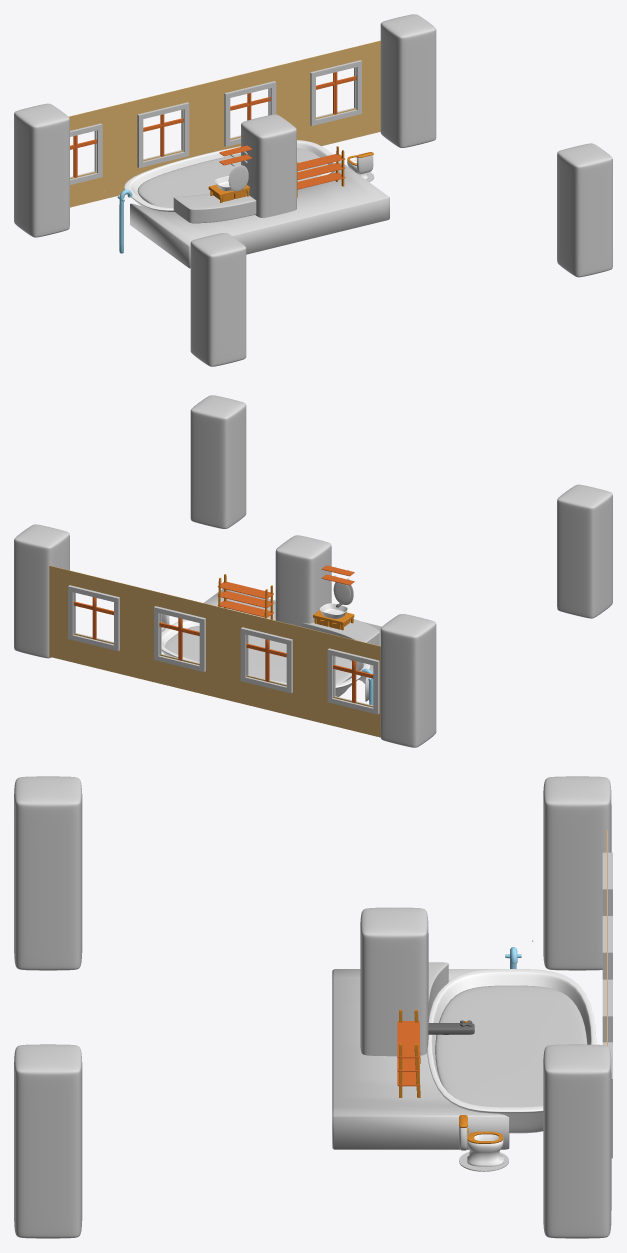
File: Bathroom_1006.fbx
3 views of the same model, one above another, from view 1: azimuth 30°, elevation 25°; view 2: azimuth 150°, elevation 25°; view 3: azimuth 270°, elevation 25° (orthographic). The views are drawn at different scales.
Visible parts, largest first — view 1: Cube.001, Cube.025, Cube.027, Cube.024, Cube.028, Cube.023, Wall2.003, Wall2.002, Wall2.001, Wall2, Cube.010, Cube.019 (+5 smaller); view 2: Cube.024, Cube.028, Cube.027, Cube.025, Wall2, Wall2.001, Wall2.002, Cube.023, Wall2.003, Cube.010, Cube.014, Cube.015 (+5 smaller); view 3: Cube.001, Cube.010, Cube.025, Cube.027, Cube.028, Cube.024, Cube.023, bathtub, toilet, Cube.004, Cube.019, Cube.014 (+2 smaller).
Part boxes in pixels (<box>): Cube.001: <box>130,161,389,268</box>; Cube.025: <box>380,14,436,147</box>; Cube.027: <box>190,233,246,366</box>; Cube.024: <box>14,103,69,237</box>; Cube.028: <box>557,143,612,277</box>; Cube.023: <box>241,114,296,217</box>; Wall2.003: <box>306,40,380,146</box>; Wall2.002: <box>69,101,133,207</box>; Wall2.001: <box>133,80,220,176</box>; Wall2: <box>220,58,307,150</box>; Cube.010: <box>137,148,327,207</box>; Cube.019: <box>173,193,256,223</box>; Cube.024: <box>380,614,436,747</box>; Cube.028: <box>190,395,246,528</box>; Cube.027: <box>557,484,612,618</box>; Cube.025: <box>14,524,69,658</box>; Wall2: <box>123,583,209,695</box>; Wall2.001: <box>210,605,296,716</box>; Wall2.002: <box>296,626,380,737</box>; Cube.023: <box>275,535,331,626</box>; Wall2.003: <box>49,565,124,674</box>; Cube.010: <box>165,626,356,684</box>; Cube.014: <box>240,627,292,693</box>; Cube.015: <box>327,648,379,714</box>; Cube.001: <box>332,969,509,1149</box>; Cube.010: <box>435,985,587,1107</box>; Cube.025: <box>543,1044,611,1238</box>; Cube.027: <box>14,776,82,970</box>; Cube.028: <box>14,1044,82,1238</box>; Cube.024: <box>543,776,611,970</box>; Cube.023: <box>360,907,428,1056</box>; bathtub: <box>427,969,596,1133</box>; toilet: <box>467,1134,503,1166</box>; Cube.004: <box>397,1021,419,1058</box>; Cube.019: <box>428,962,448,1021</box>; Cube.014: <box>602,916,612,979</box>.
Bounding box in the file's own units: 1401 × 459 × 1195.
